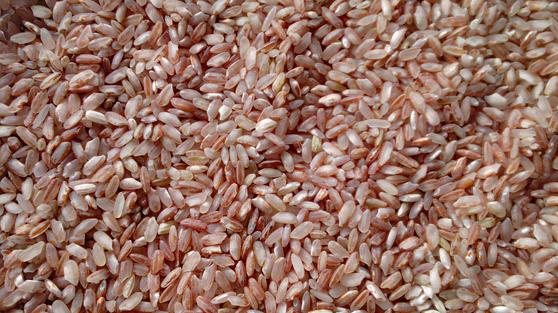rice: (77, 46, 538, 311)
